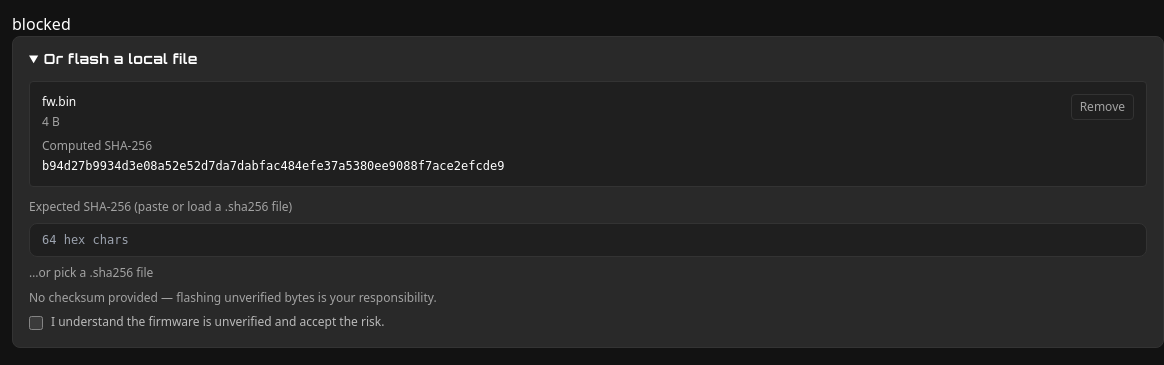
Test: LocalFirmwareInput › unblocks readiness once the user confirms the unverified risk
Expected: the text with test id "ready" reads "blocked", [12,13,71,35]
Click the checkbox at (36, 323), box [29,316,43,330]
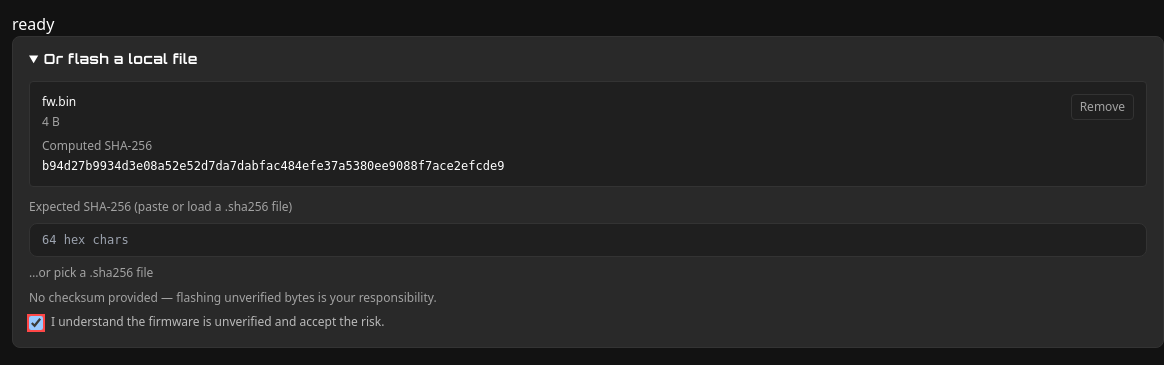
Expected: the checkbox is checked
Expected: the text with test id "ready" reads "ready", [12,13,54,35]
# Unchecking re-blocks the flash.
Click the checkbox at (36, 323), box [29,316,43,330]
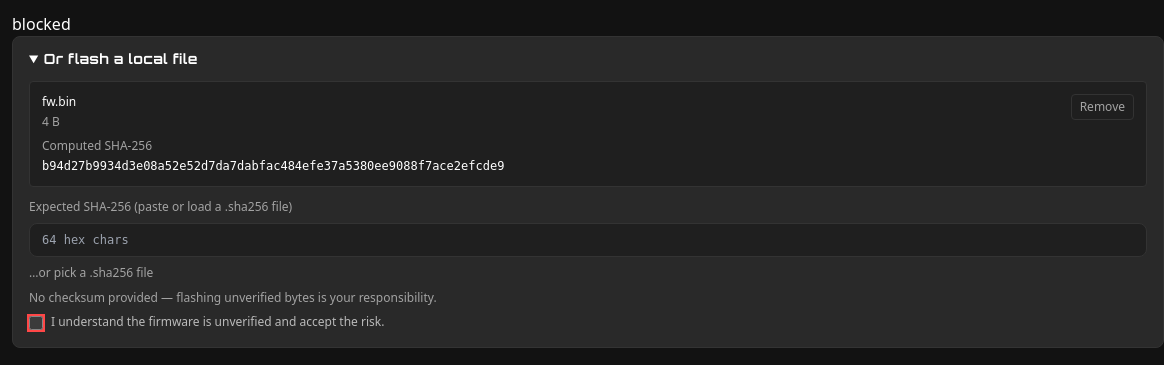
Expected: the text with test id "ready" reads "blocked", [12,13,71,35]
